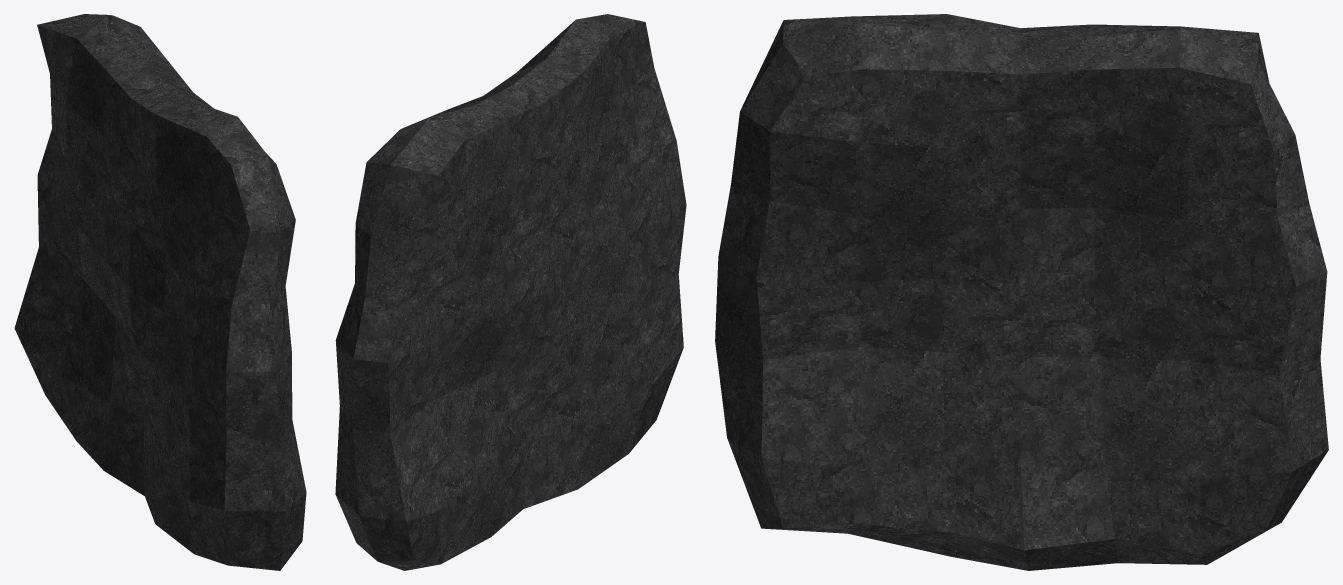
The model's file is CavePlatform.glb.
The picture shows the model from 3 angles, left to right: view 1: azimuth 30°, elevation 25°; view 2: azimuth 150°, elevation 25°; view 3: azimuth 270°, elevation 25°; orthographic projection. The views are drawn at different scales.
Visible parts, largest first — view 1: Cube.103; view 2: Cube.103; view 3: Cube.103.
Boxes of the visible parts, x1=… form: Cube.103: x1=14, y1=14, x2=306, y2=570; Cube.103: x1=335, y1=14, x2=686, y2=570; Cube.103: x1=715, y1=14, x2=1328, y2=570.
Bounding box in the file's own units: 2.78 × 10.21 × 10.62.
Materials: 1 (1 with a texture image).
